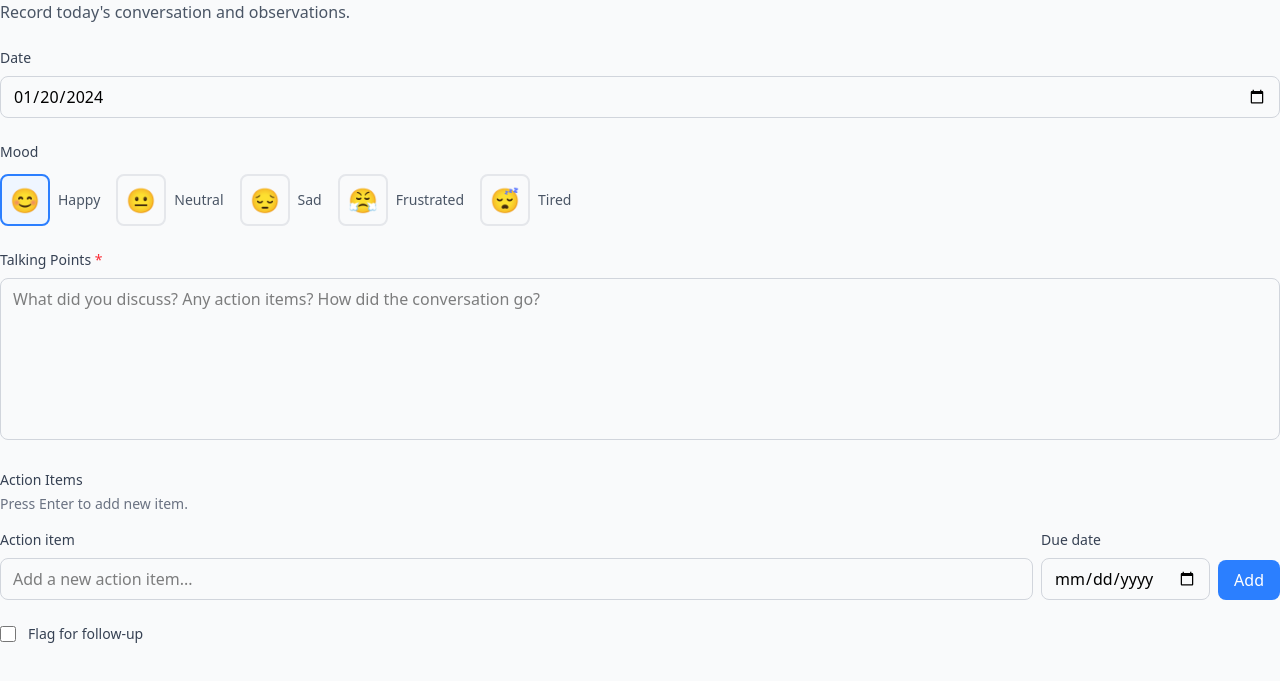
Scenario: OneOnOneNoteForm › action items have a due date
In the field with placeholder "Add a new action item...": [517, 579] box [0,558,1033,600], type "Action item Test"
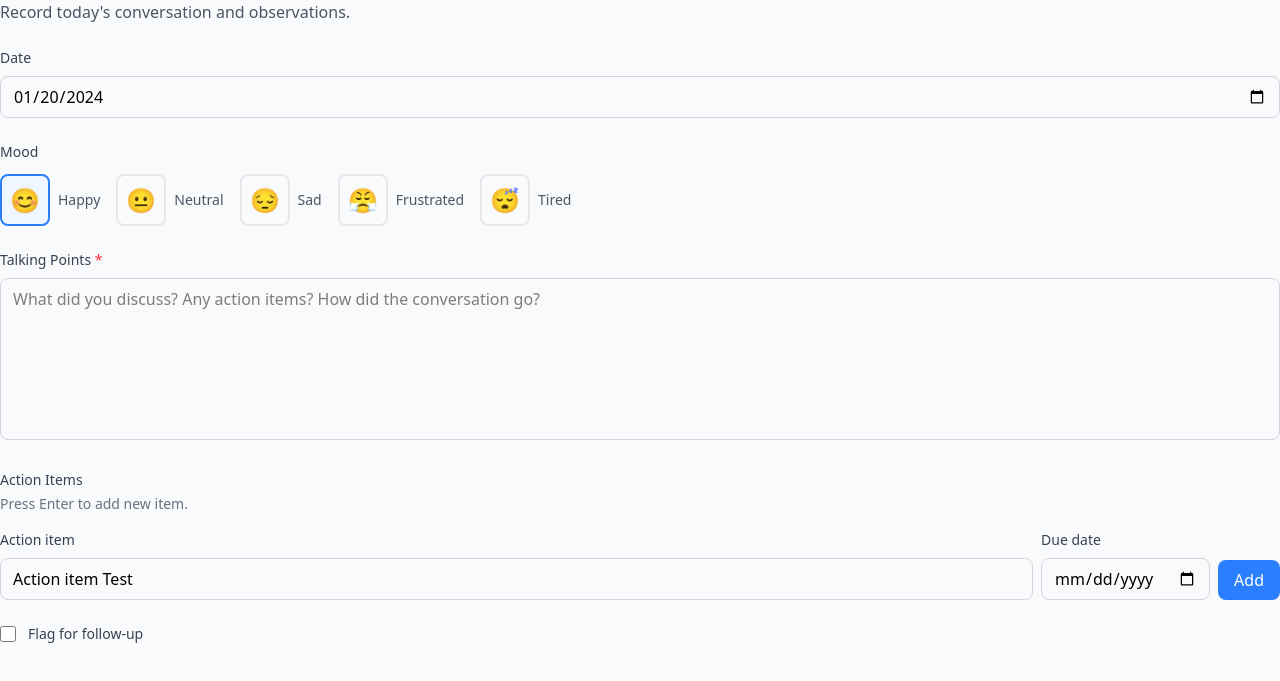
In the date field labelled "Due date": [1126, 579] box [1041,558,1210,600], type "2024-01-20"
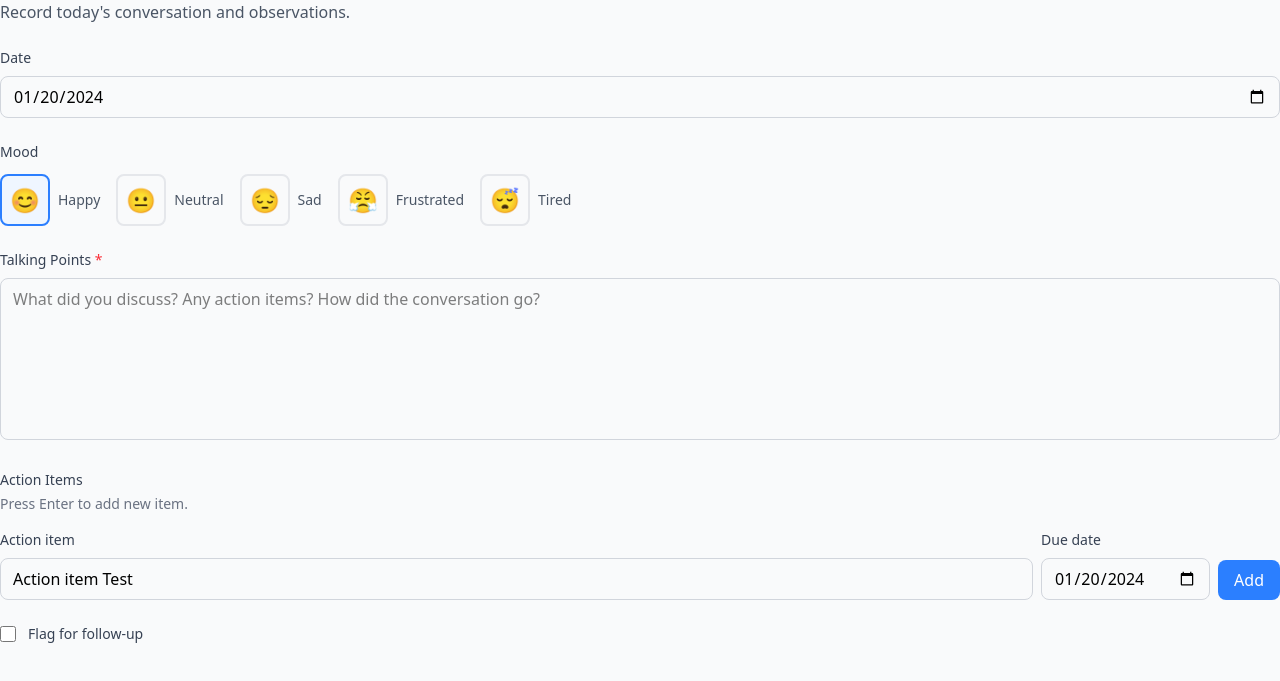
Click the button "Add": [1249, 580] box [1218,560,1279,600]
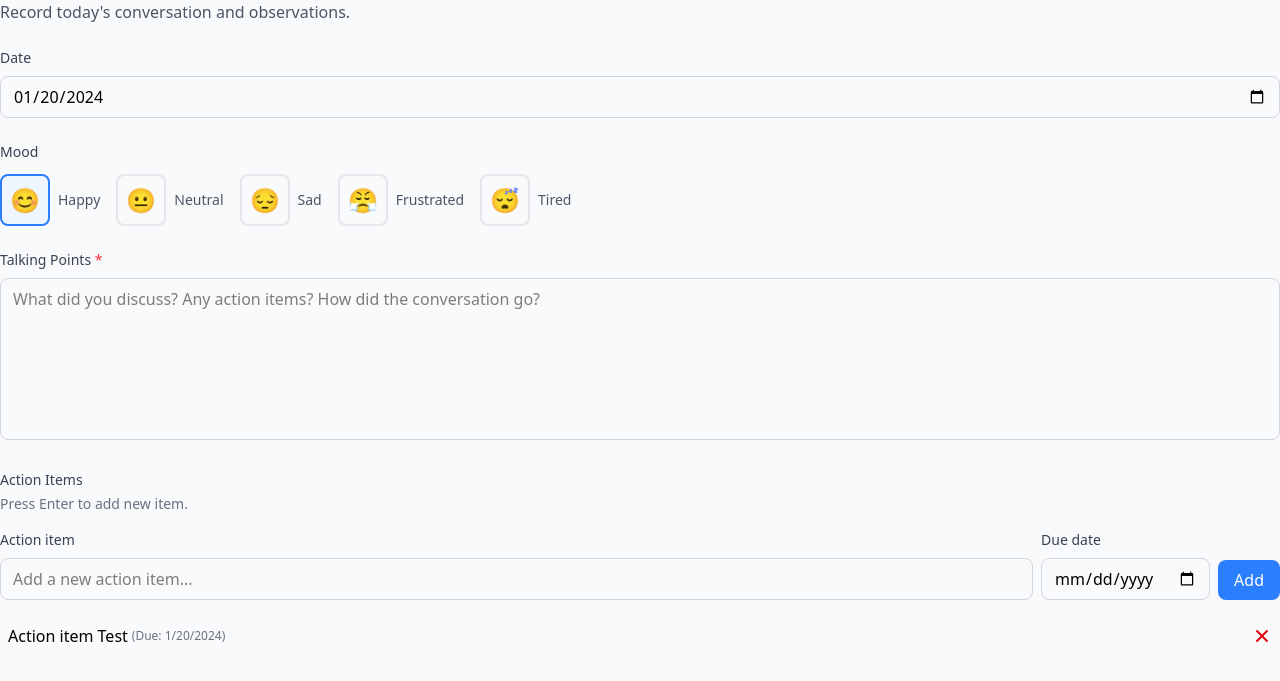
expect the text "Action item Test" is shown: met, box [8,624,128,648]
expect the text "(Due: 1/20/2024)" is shown: met, box [132,628,225,644]
